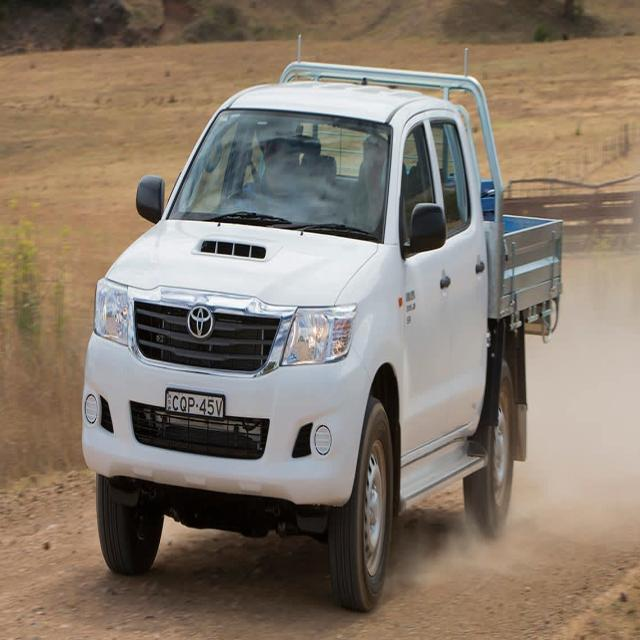light_vehicle: (73, 48, 568, 615)
